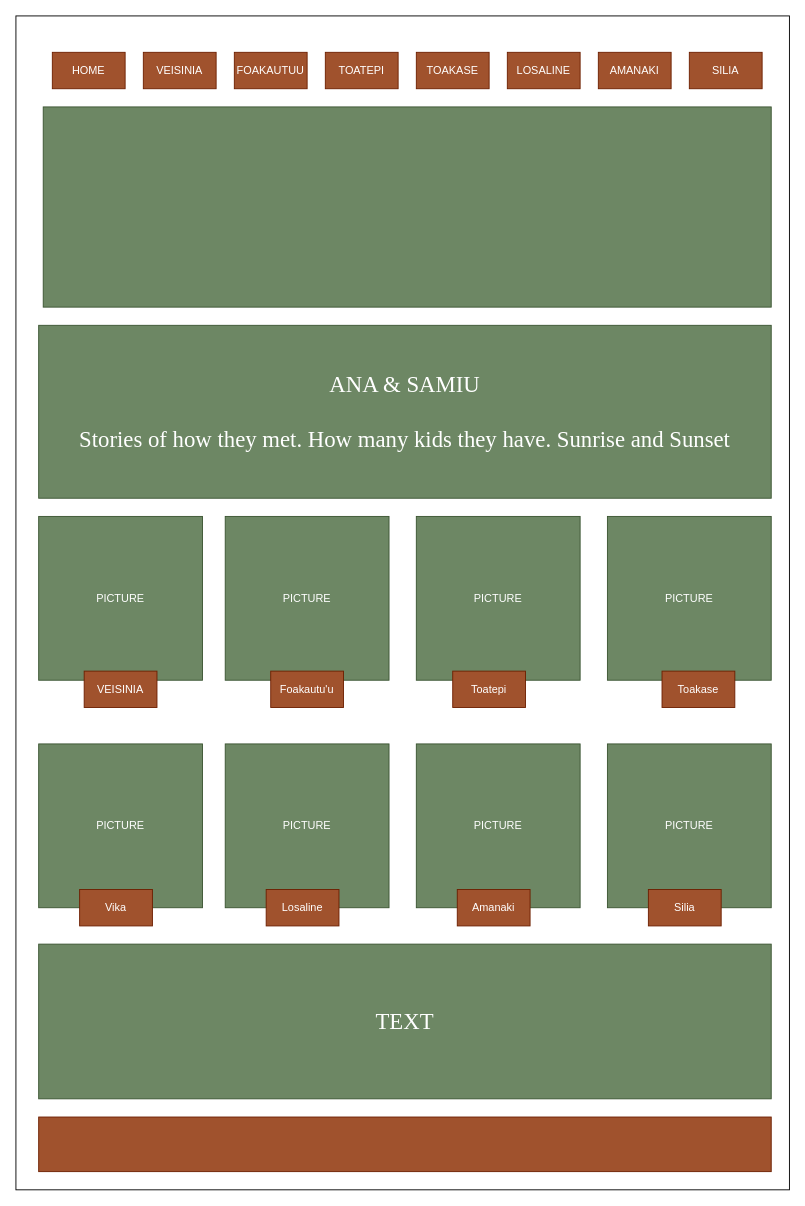
Image size: 805x1206. Some labels were removed from this diagram. The centre of each missing label's shape, as x and y in pixels:
FAMILY: the point at 406,206
FOOTER (SOCIAL MEDIA ICONS): the point at 404,1144
